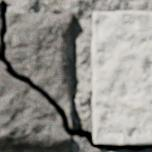brick: (91, 12, 151, 144)
broken_brick: (5, 13, 73, 128), (0, 57, 72, 146), (0, 14, 3, 54)
crack: (0, 0, 151, 151)
